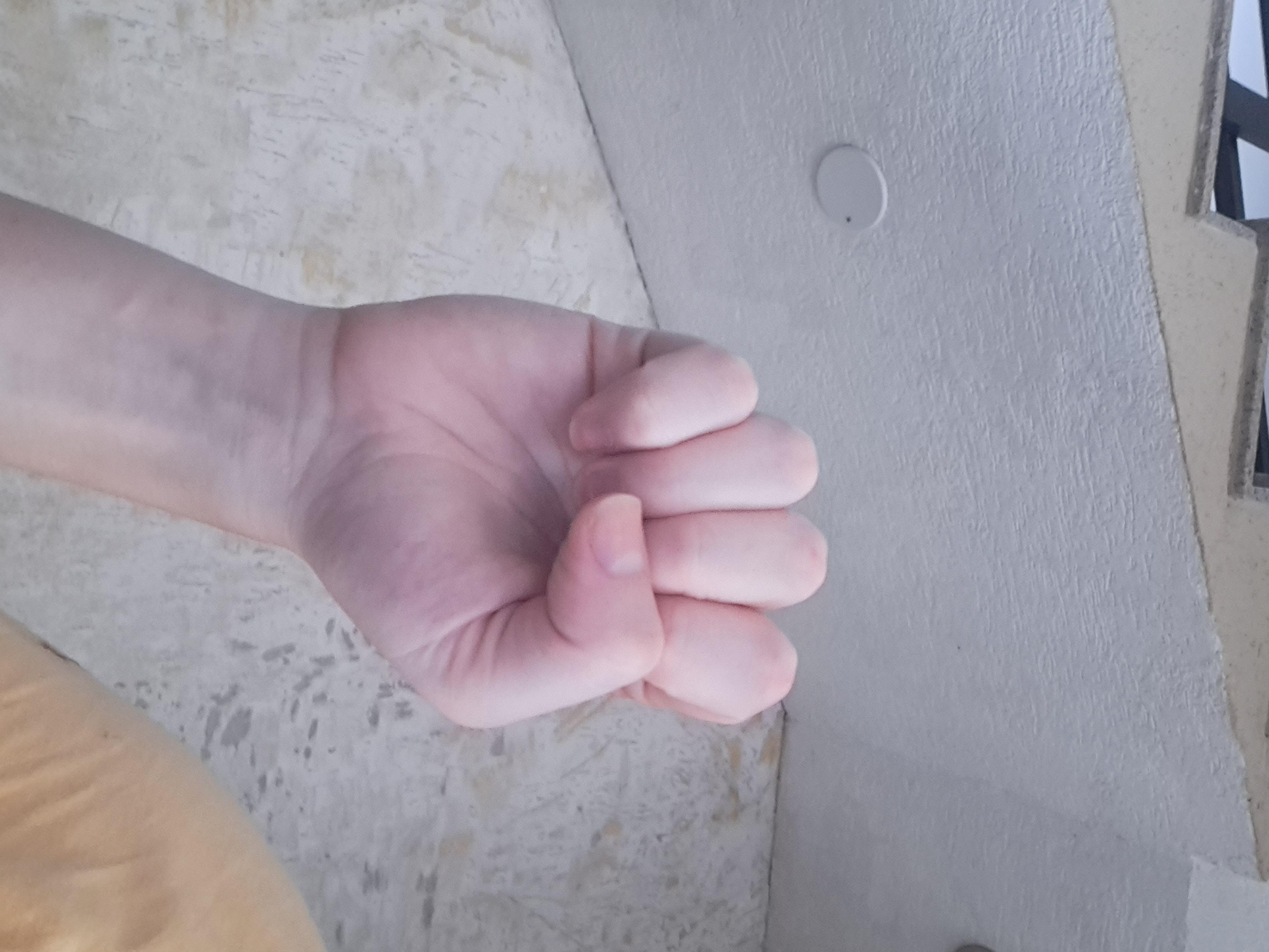S: (368, 321, 995, 732)
